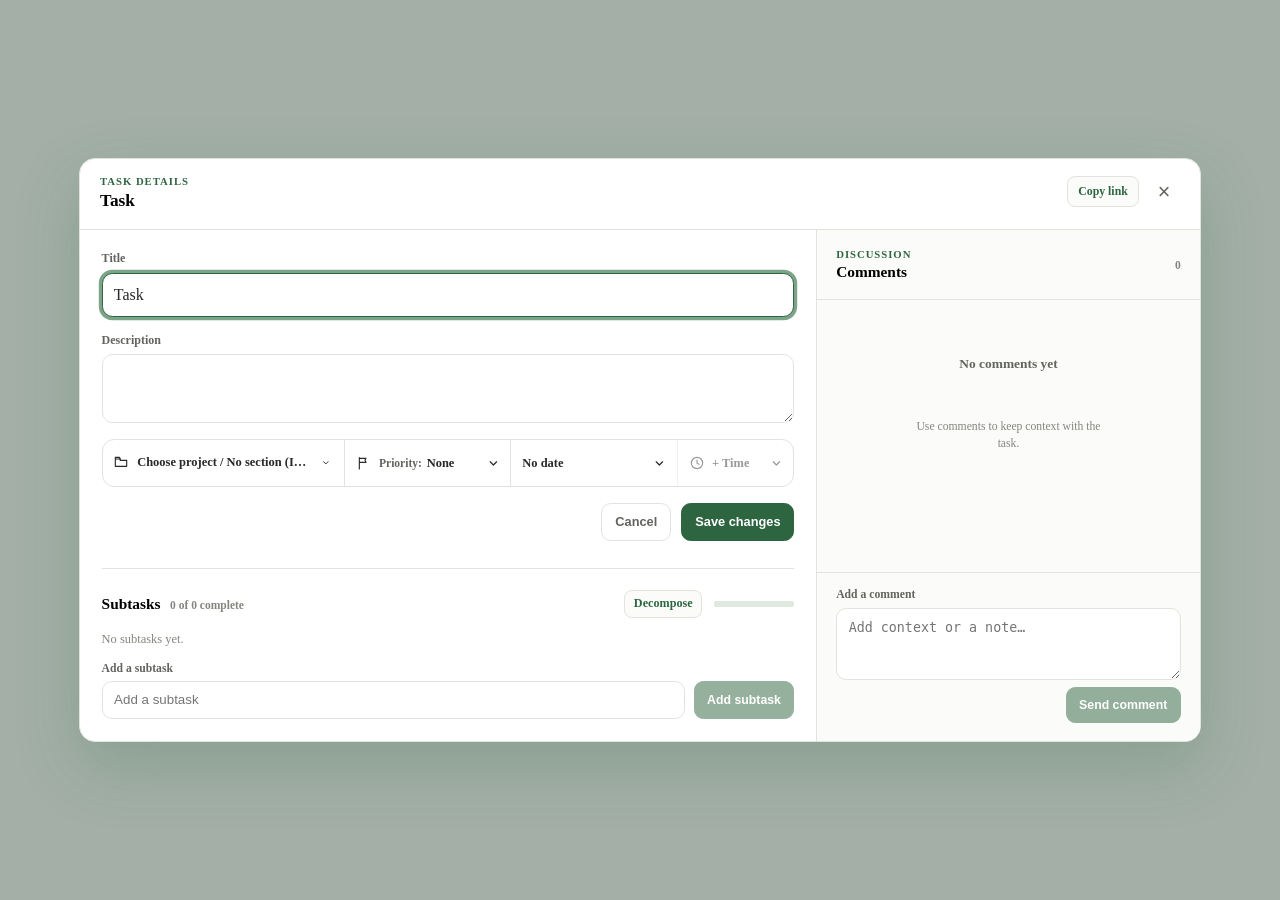
Test: TaskEditorModal relationships › submits a comment independently and clears its composer
Type "Keep the rollout gradual." into the text box labelled "Add a comment". click: (1008, 644)
box: left=836, top=608, right=1181, bottom=680
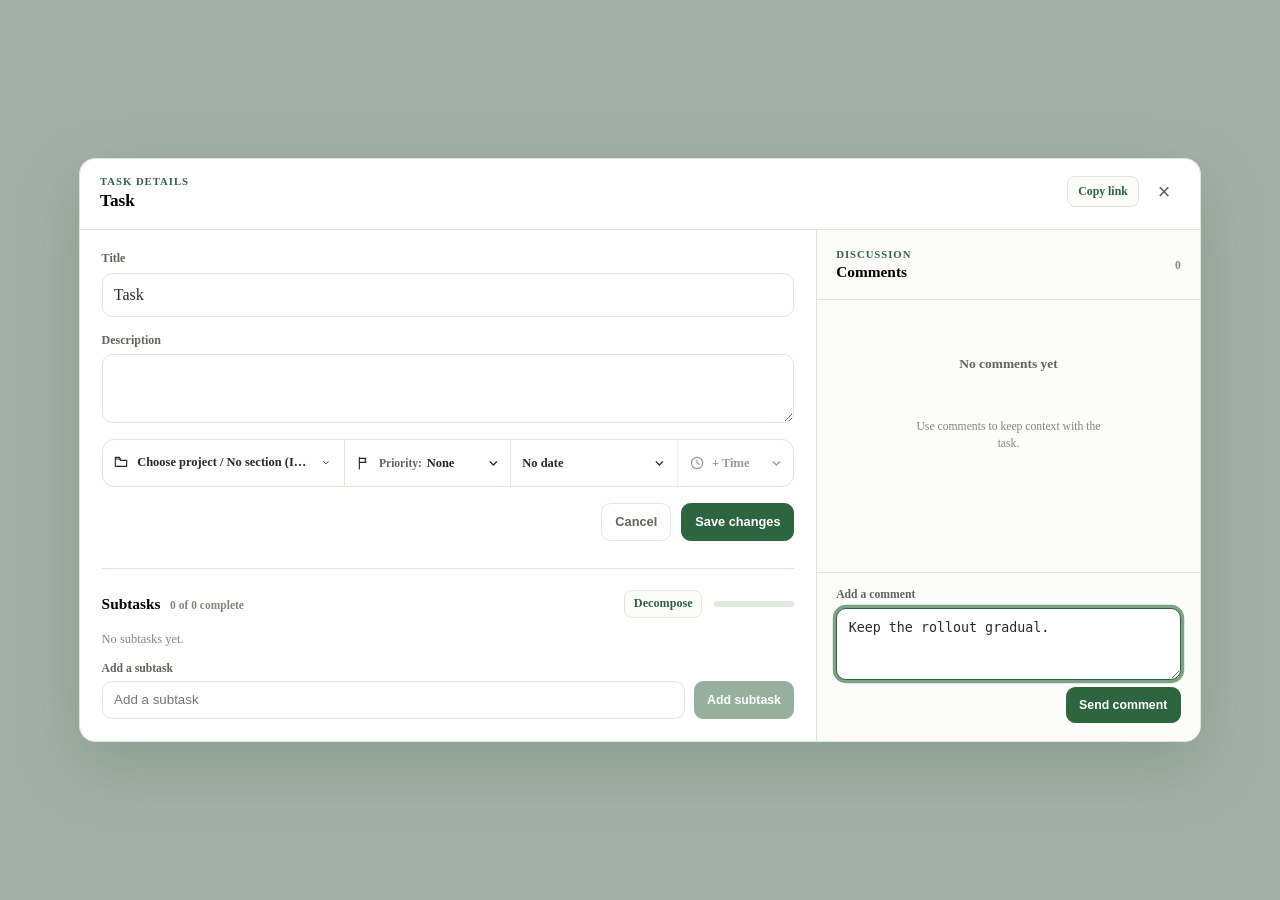
Click the button "Send comment". click: (1123, 705)
box: left=1066, top=687, right=1181, bottom=723
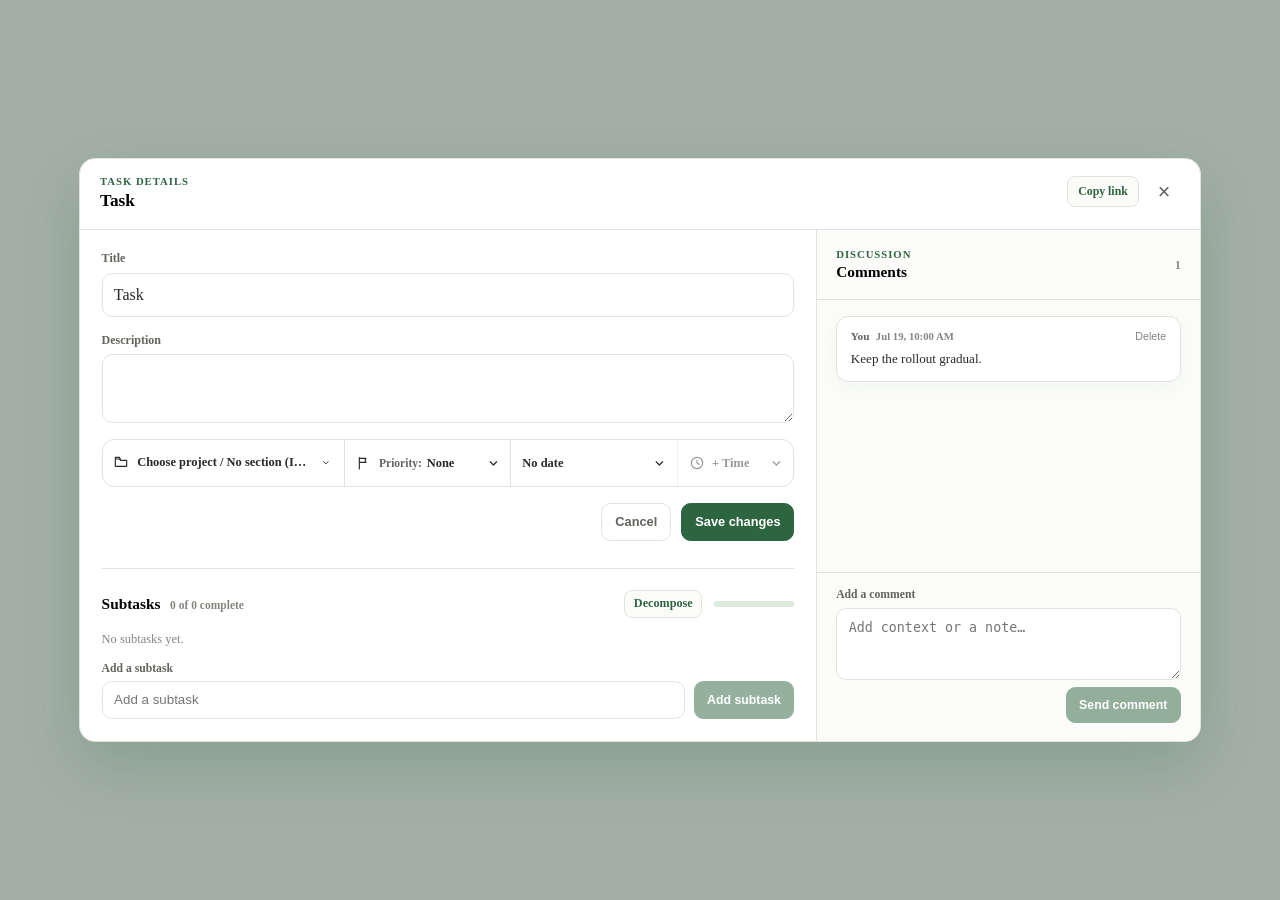
Expected: the text "Keep the rollout gradual." is shown, left=851, top=351, right=982, bottom=366
Expected: the text box labelled "Add a comment" is empty, left=836, top=608, right=1181, bottom=680
